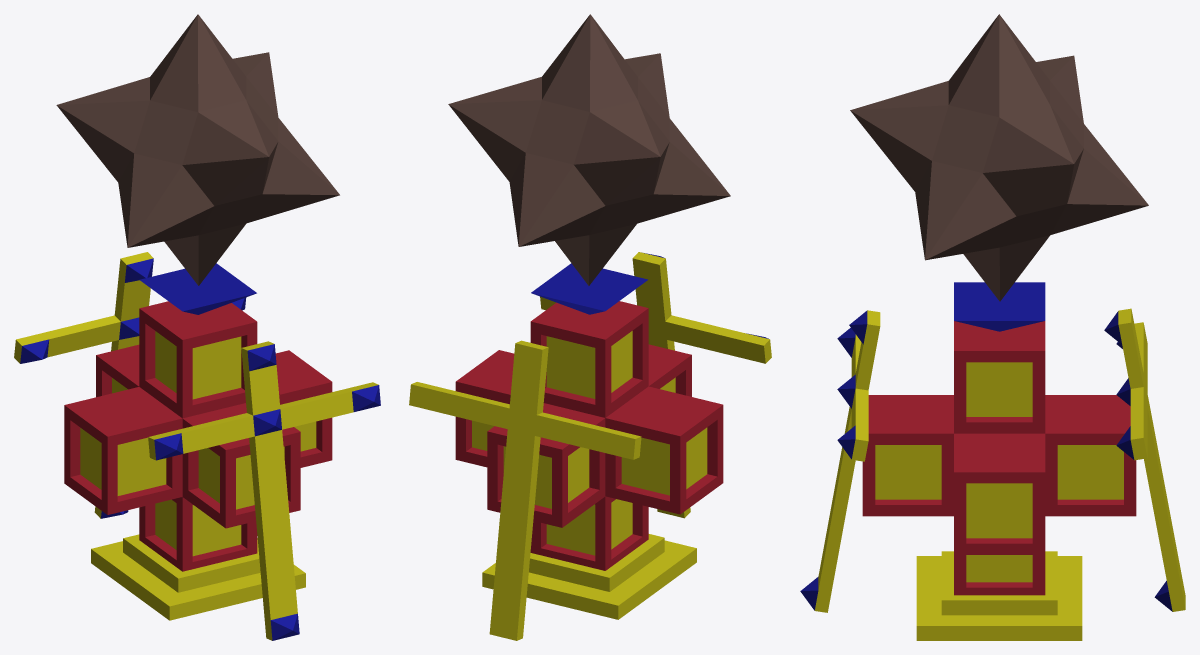
Rendered from Obra1_stoer.glb.
3 renders of one model, left to right at view 1: azimuth 30°, elevation 25°; view 2: azimuth 150°, elevation 25°; view 3: azimuth 270°, elevation 25°, orthographic. The views are drawn at different scales.
Visible parts, largest first — view 1: CuboCruz, Octaedro truncado, Cruz1, Cruz2; view 2: CuboCruz, Octaedro truncado, Cruz2, Cruz1; view 3: CuboCruz, Octaedro truncado, Cruz2, Cruz1.
Part boxes in pixels (x1,y1,x2,y2): CuboCruz: (64,263,332,620); Octaedro truncado: (56,14,339,285); Cruz1: (148,341,380,640); Cruz2: (14,252,246,518); CuboCruz: (455,263,723,619); Octaedro truncado: (448,14,730,285); Cruz2: (409,340,641,640); Cruz1: (540,252,771,518); CuboCruz: (862,282,1136,640); Octaedro truncado: (850,14,1148,301); Cruz2: (1104,308,1185,611); Cruz1: (800,310,880,612).
Size of the model in its own units: 6.65 by 15.75 by 9.3.
